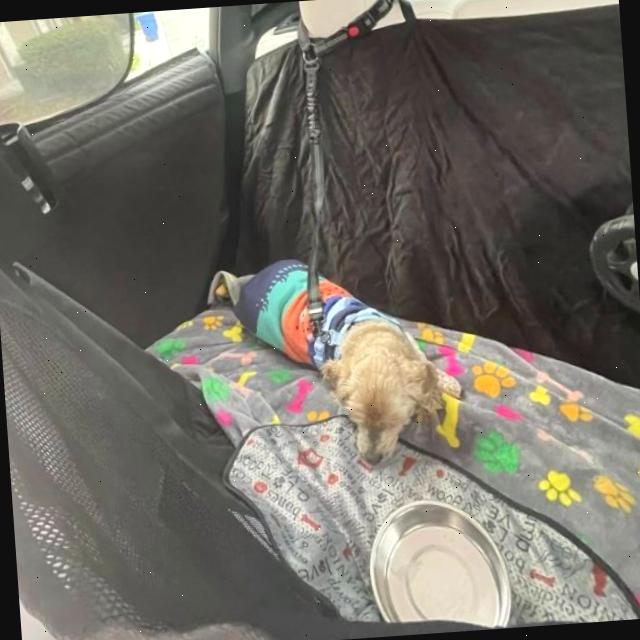Poodle_dog: (307, 336, 457, 475)
